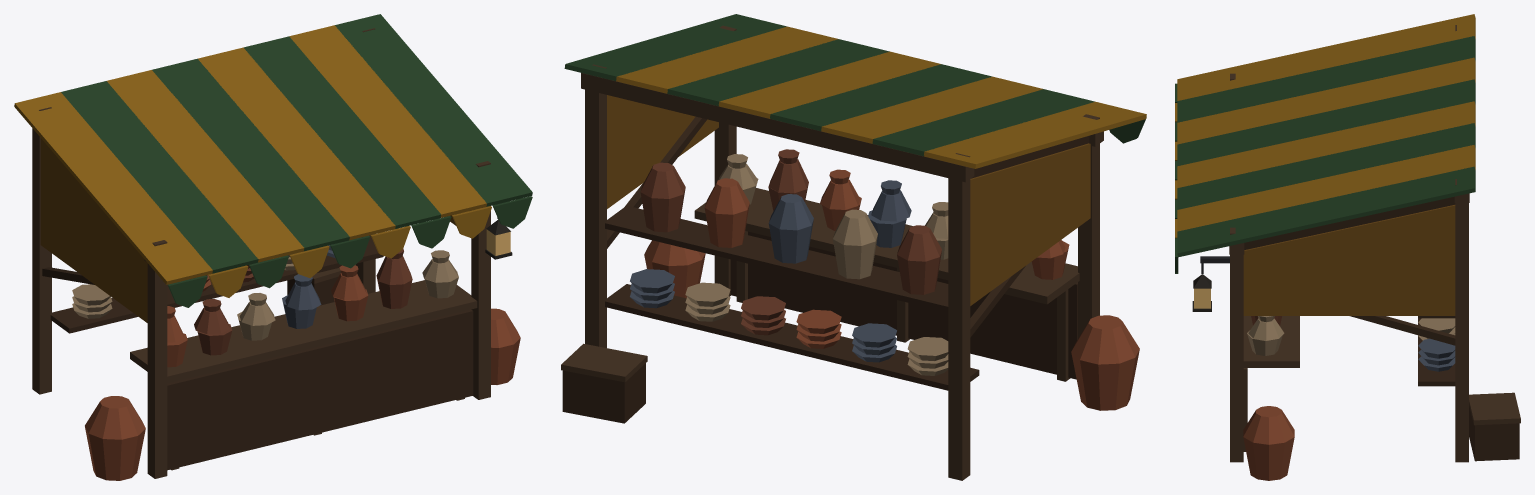
The model's file is market-stall-pots.glb.
3 renders of one model, left to right at view 1: azimuth 30°, elevation 25°; view 2: azimuth 150°, elevation 25°; view 3: azimuth 270°, elevation 25°, orthographic. The views are drawn at different scales.
Visible parts, largest first — view 1: market-stall-pots; view 2: market-stall-pots; view 3: market-stall-pots.
Part boxes in pixels (x1,y1,x2,y2): market-stall-pots: (14,14,532,480); market-stall-pots: (561,14,1146,480); market-stall-pots: (1175,14,1520,480).
Bounding box in the file's own units: 4.53 × 2.89 × 3.22.
